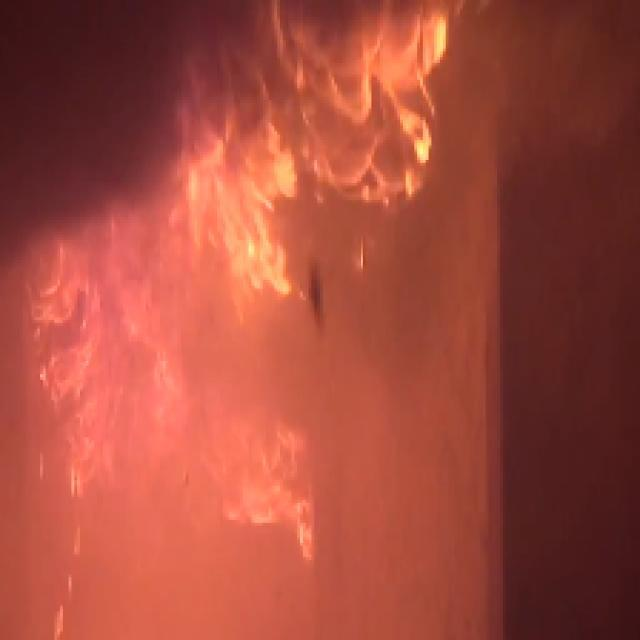Fire: (34, 228, 186, 483), (294, 11, 449, 186), (192, 83, 288, 300), (217, 412, 323, 552)
Smoke: (3, 14, 183, 217), (463, 8, 631, 195)
